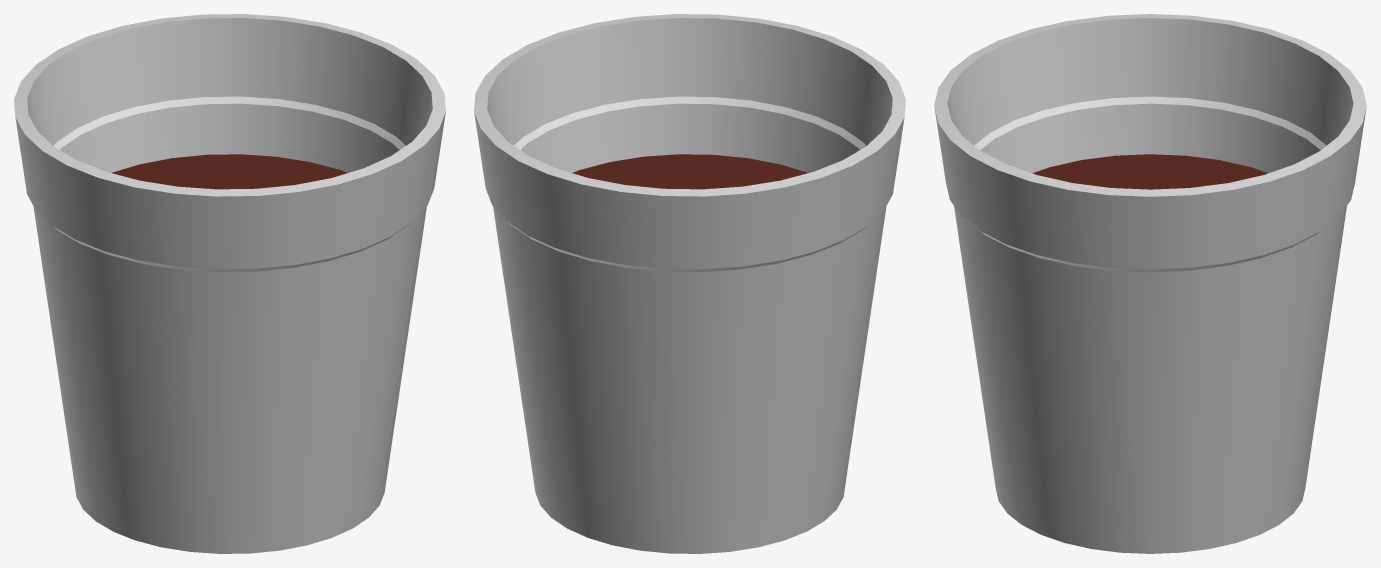
The model's file is vasito duroport lleno.fbx.
3 views of the same model, side by side, from view 1: azimuth 30°, elevation 25°; view 2: azimuth 150°, elevation 25°; view 3: azimuth 270°, elevation 25° (orthographic).
Parts seen in each view (by area): view 1: Cylinder; view 2: Cylinder; view 3: Cylinder.
Part boxes in pixels (bbox=[...]): Cylinder: bbox=[14, 14, 445, 553]; Cylinder: bbox=[474, 14, 905, 553]; Cylinder: bbox=[934, 14, 1366, 553].
Bounding box in the file's own units: 205 × 201 × 205.
